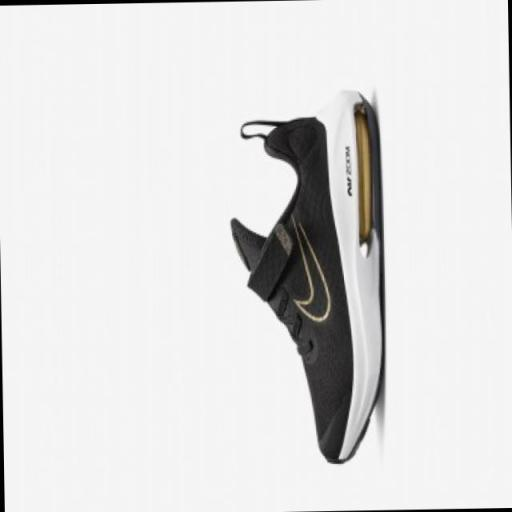Nike: (285, 204, 334, 330)
